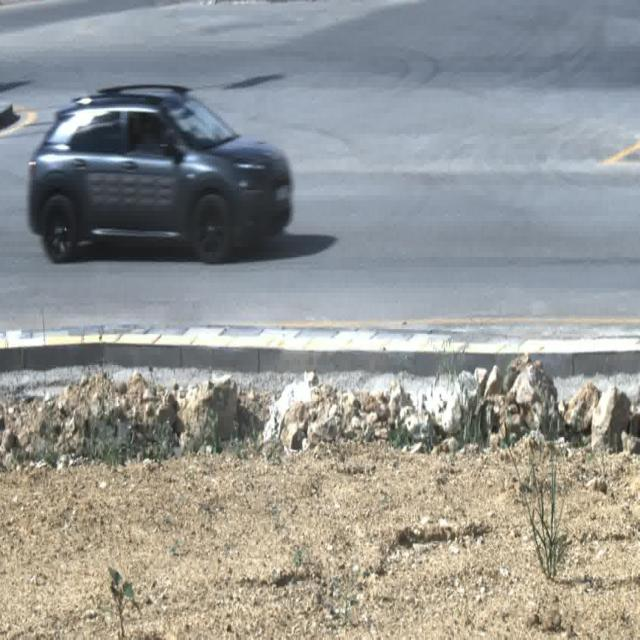Car: (28, 86, 292, 266)
